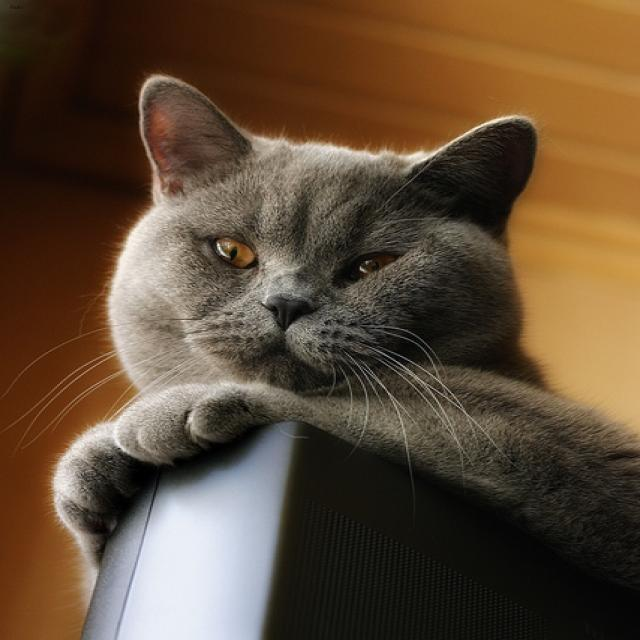British_Shorthair: (105, 73, 534, 389)
